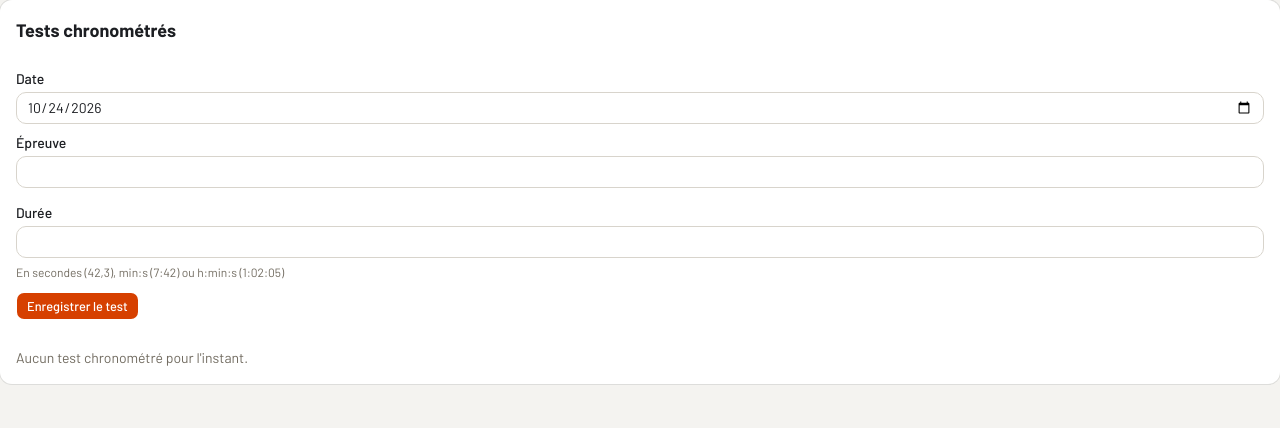
Test: ProfileMeasurements › refuse une durée illisible sans appeler l'API
The width and height of the screenshot is (1280, 428).
Type "Cooper" into the field labelled "Épreuve" at [640, 172], box [16,156,1264,188]
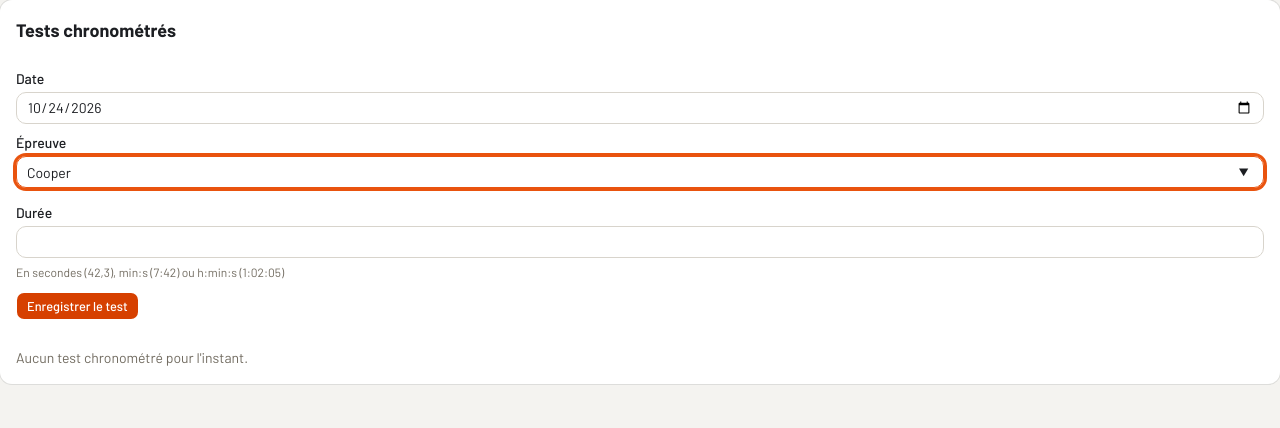
Type "7:75" into the field labelled "Durée" at [640, 242], box [16,226,1264,258]
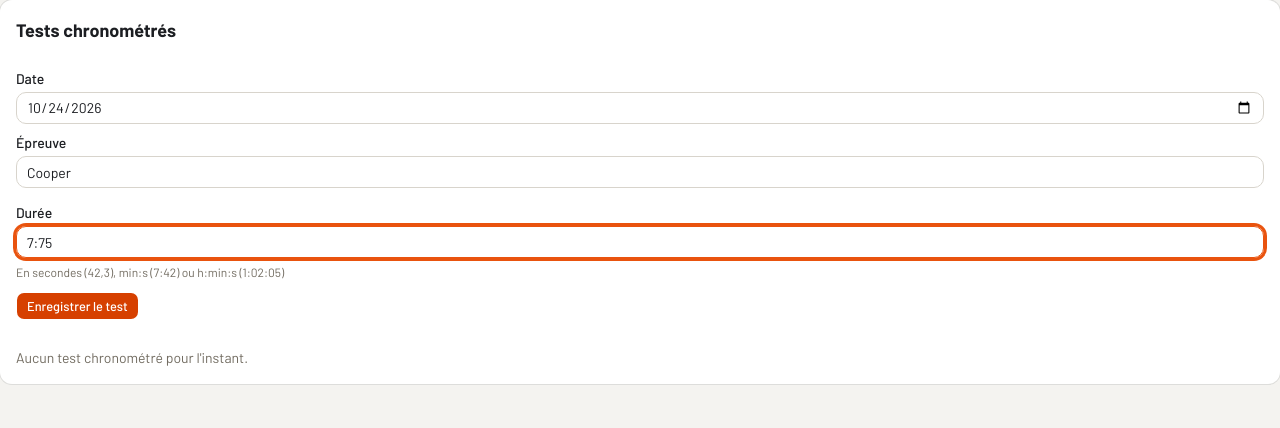
Click the button "Enregistrer le test" at [77, 306], box [16,292,139,320]
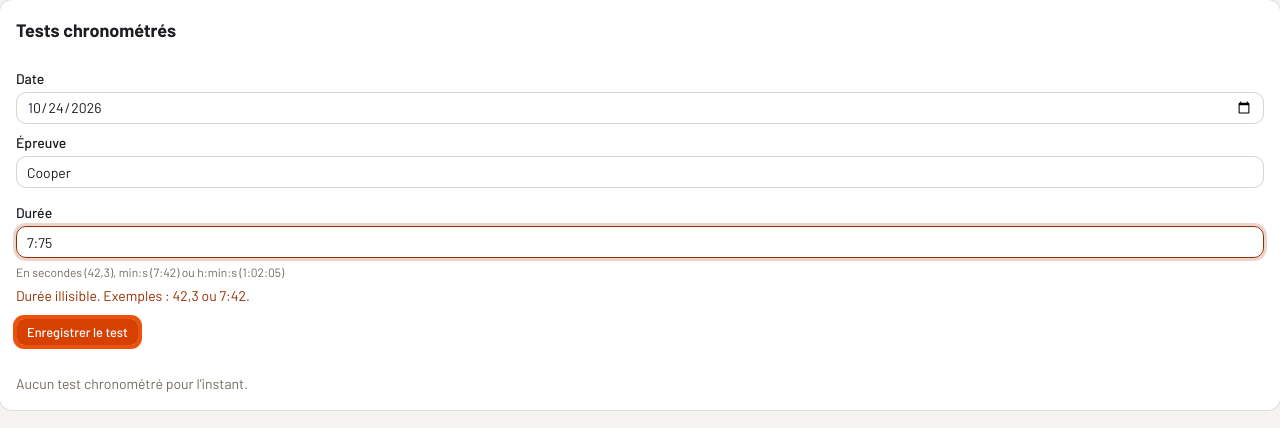
Now the text "Durée illisible. Exemples : 42,3 ou 7:42." is shown, box [16,287,250,304]
